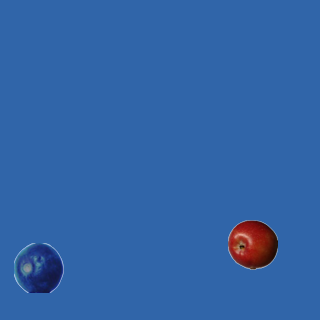Apple Braeburn: (227, 219, 277, 269)
Huckleberry: (13, 242, 63, 292)
